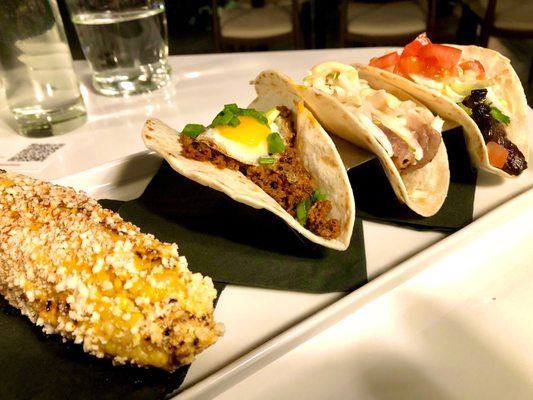pizza: (64, 0, 175, 103)
soup: (141, 76, 356, 252)
